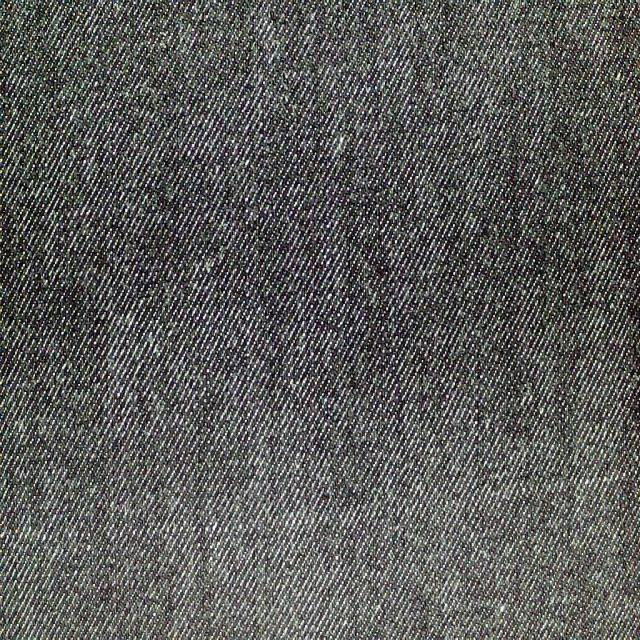defect: (0, 469, 640, 549)
